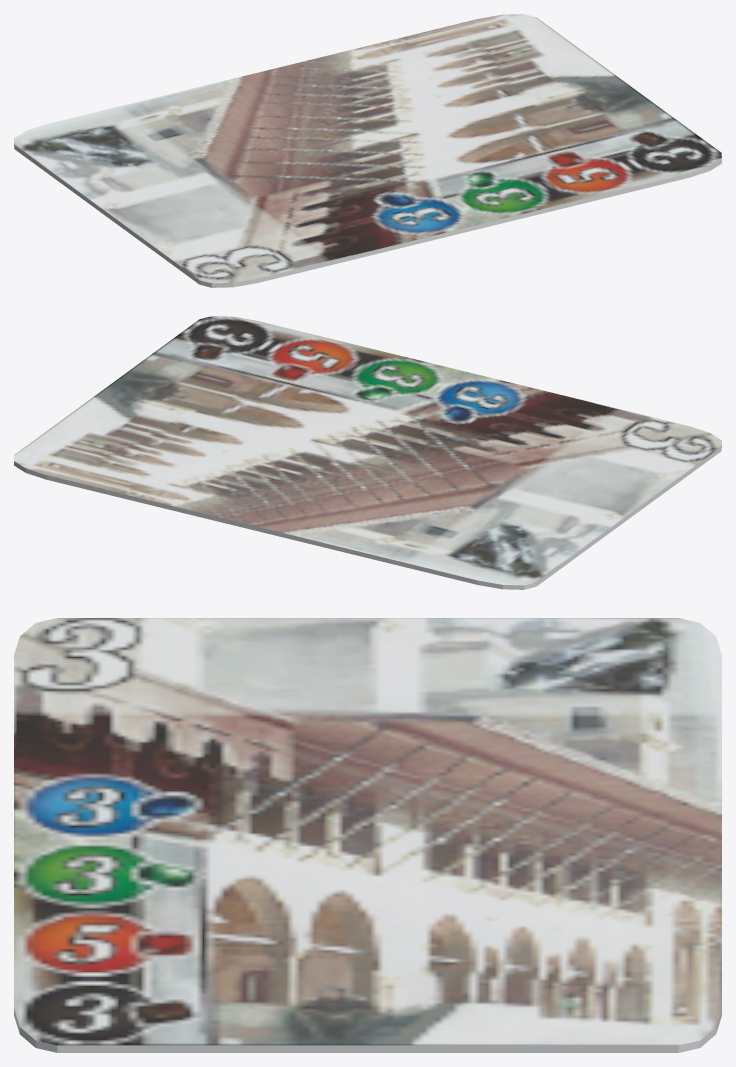
The picture shows the model from 3 angles, top to bottom: view 1: azimuth 30°, elevation 25°; view 2: azimuth 150°, elevation 25°; view 3: azimuth 270°, elevation 25°; orthographic projection. The views are drawn at different scales.
Visible parts, largest first — view 1: Card1; view 2: Card1; view 3: Card1.
Boxes of the visible parts, x1=… form: Card1: x1=14, y1=14, x2=721, y2=287; Card1: x1=14, y1=316, x2=721, y2=589; Card1: x1=14, y1=618, x2=721, y2=1052.
Bounding box in the file's own units: 700 × 5.74 × 490.
